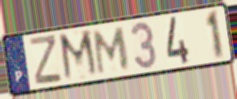1: (206, 8, 228, 62)
3: (129, 20, 158, 72)
4: (166, 15, 191, 66)
M: (57, 27, 101, 84), (92, 26, 131, 77)
Z: (28, 33, 64, 86)
